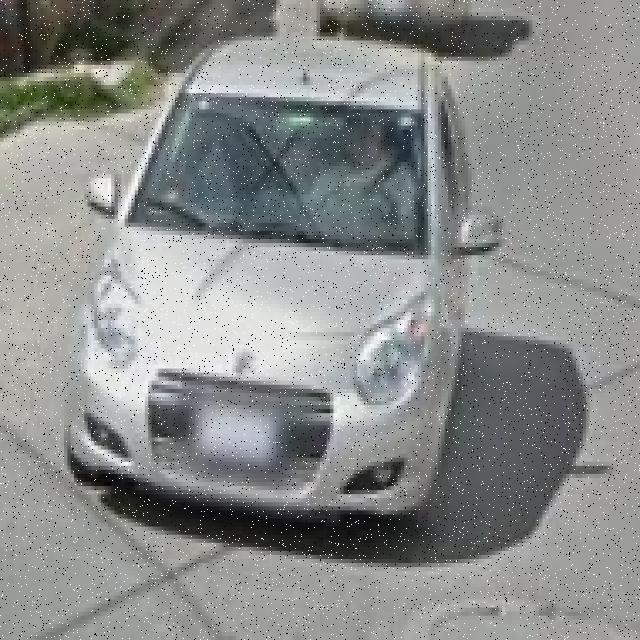cars: (74, 28, 511, 556)
